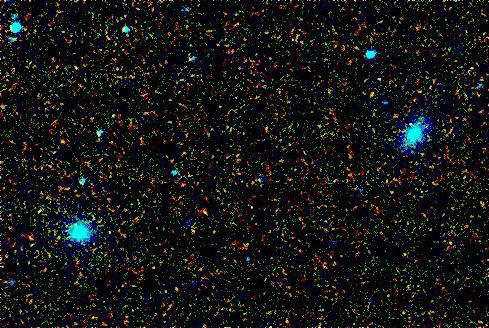star: (100, 101, 130, 131)
